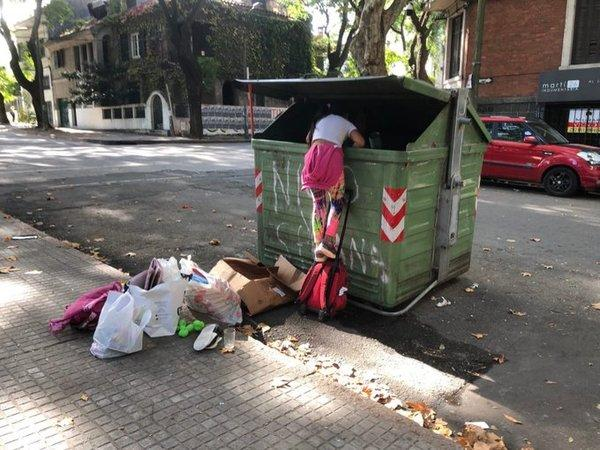Dechets: (49, 256, 243, 358), (210, 256, 346, 316)
Trash: (241, 75, 490, 315)
